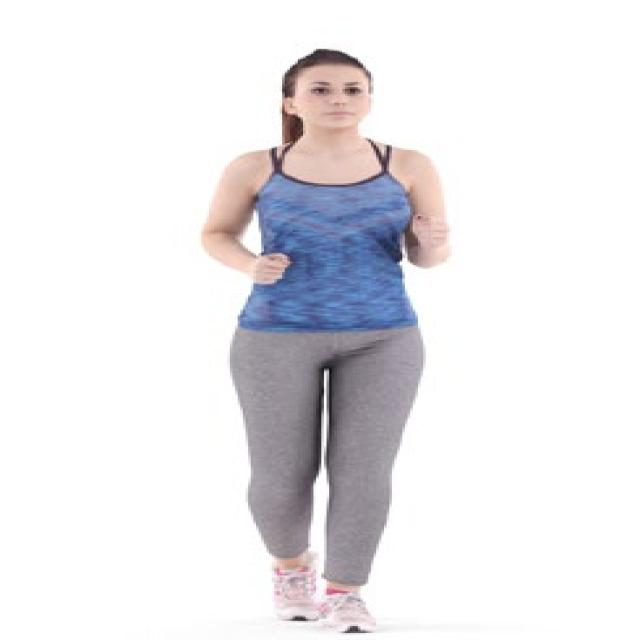running: (207, 43, 460, 634)
